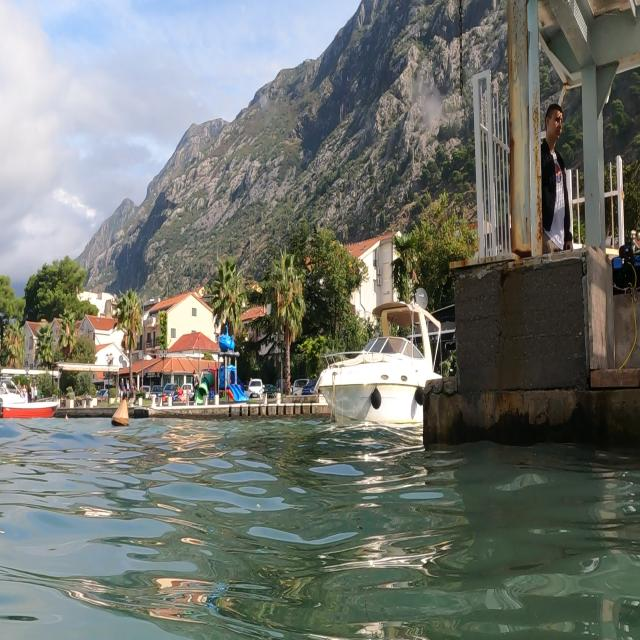boat: (314, 287, 444, 431), (1, 361, 71, 425)
buoy: (110, 393, 133, 437)
